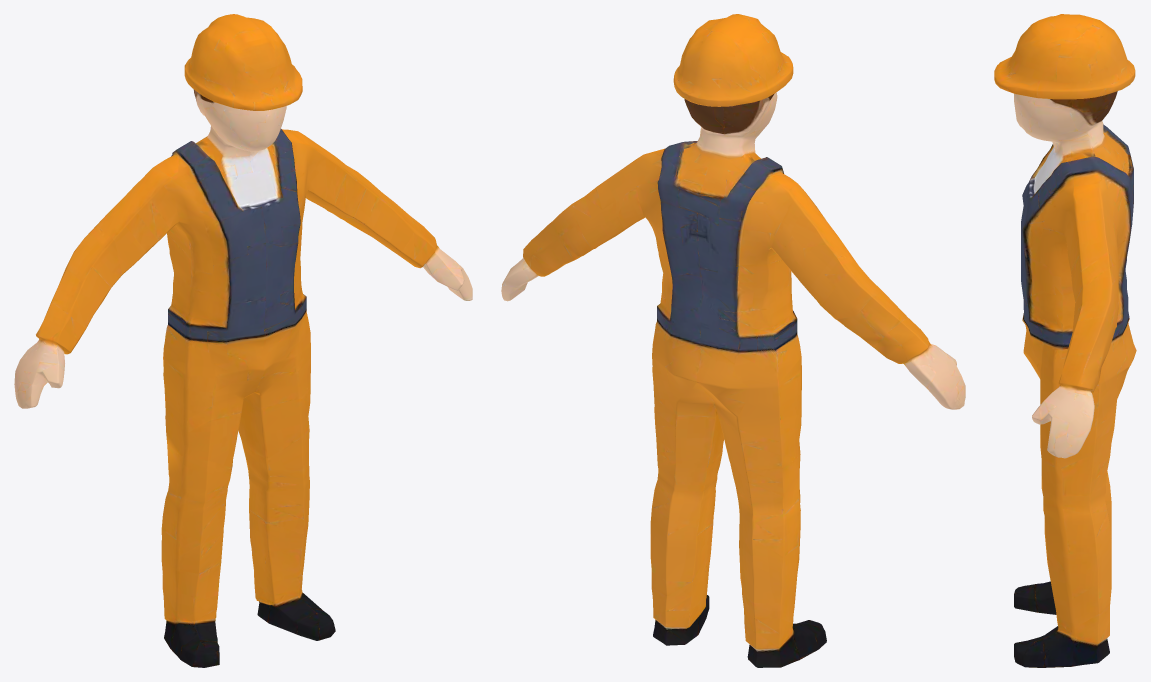
File: worker.glb
The picture shows the model from 3 angles, left to right: view 1: azimuth 30°, elevation 25°; view 2: azimuth 150°, elevation 25°; view 3: azimuth 270°, elevation 25°; orthographic projection.
Bounding box in the file's own units: 1.46 × 1.91 × 0.3992.
Materials: 1 (1 with a texture image).
